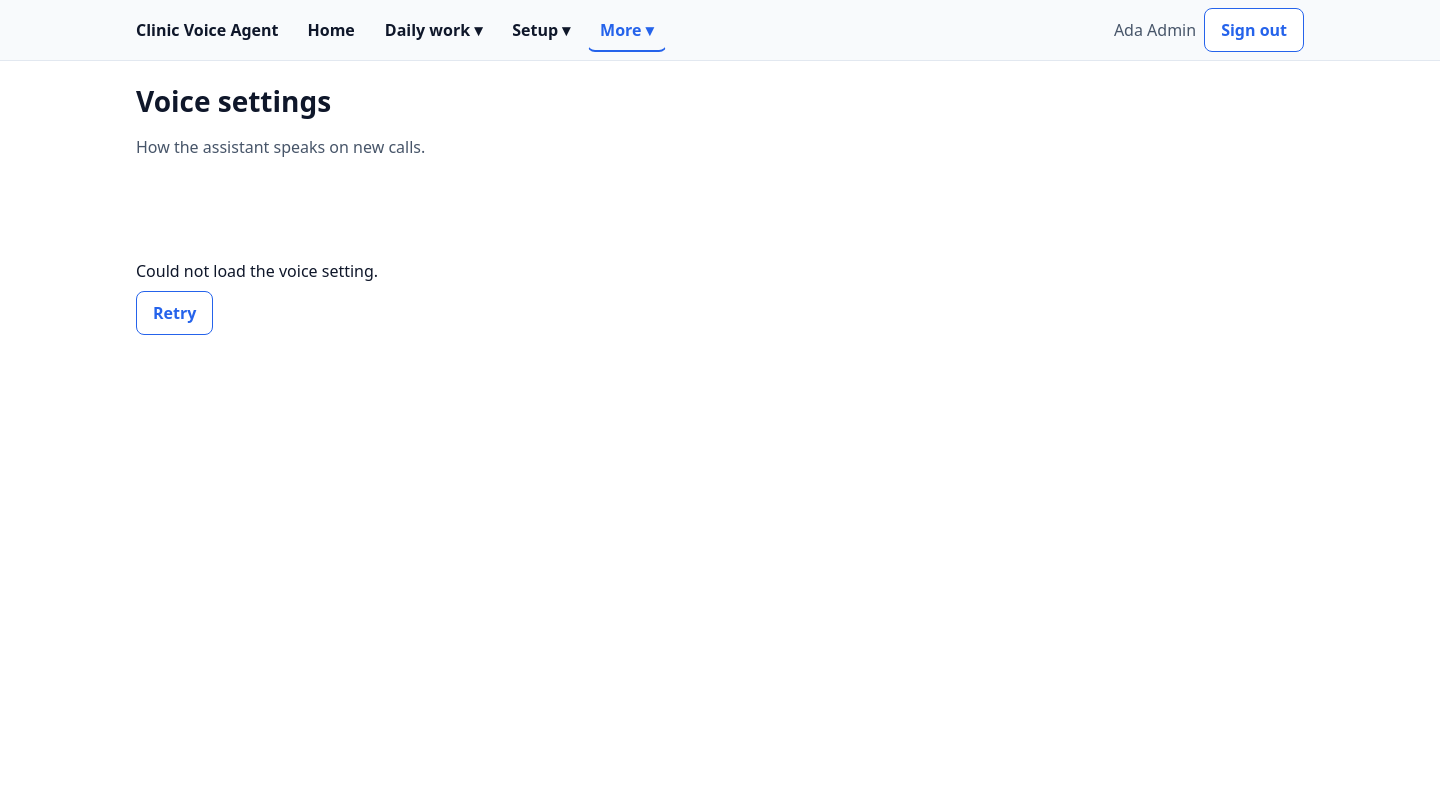
it: T-FE: voice-mode settings › shows a retryable error when loading fails
Expected: the message with test id "settings-error" shows "Could not load the voice setting.", [136,260,378,282]
Click the button "Retry".
click(175, 313)  # box [136,291,213,335]
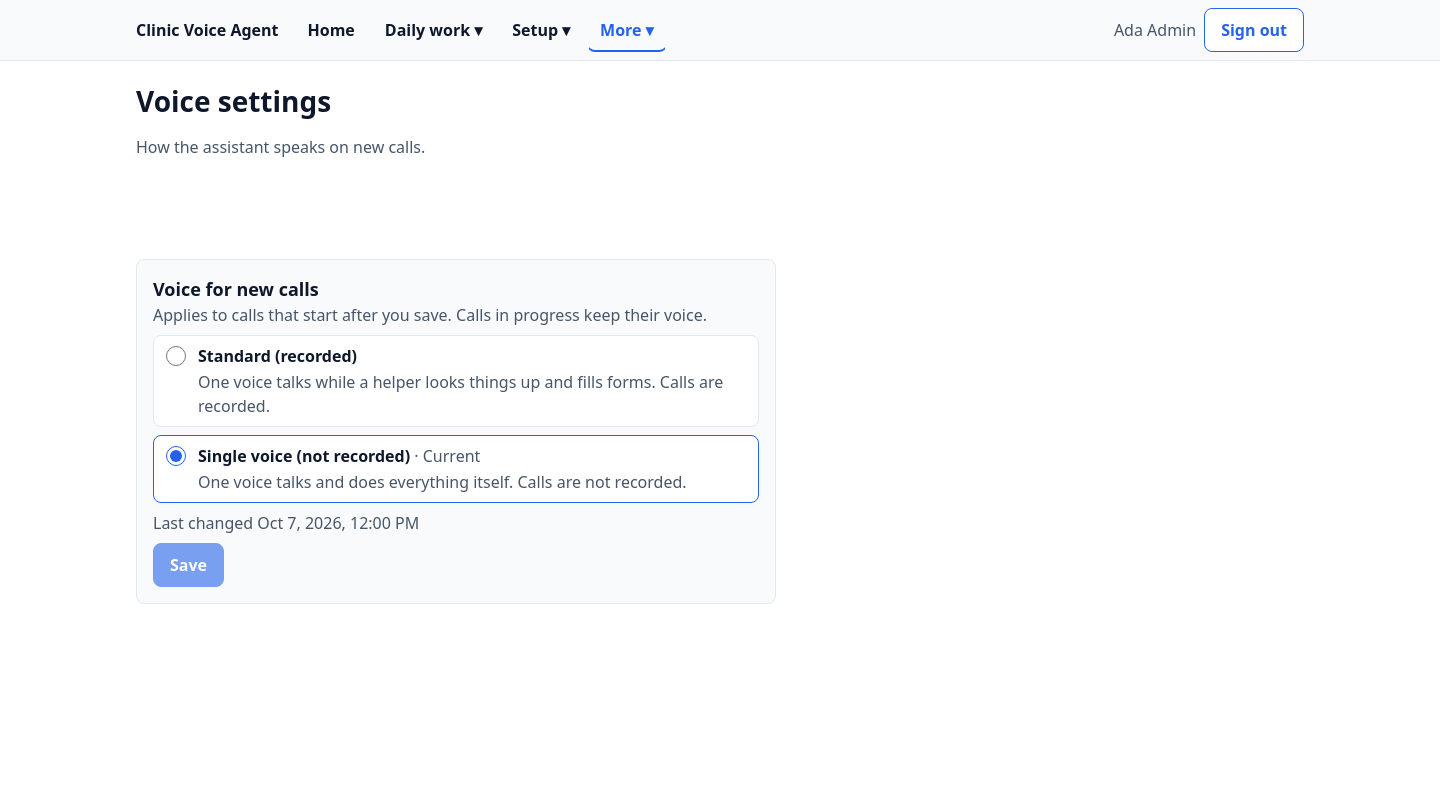
Expected: the label with test id "settings-mode-realtime" is shown, [153,435,759,503]
Expected: the 2nd radio button is checked, [166,446,186,466]
